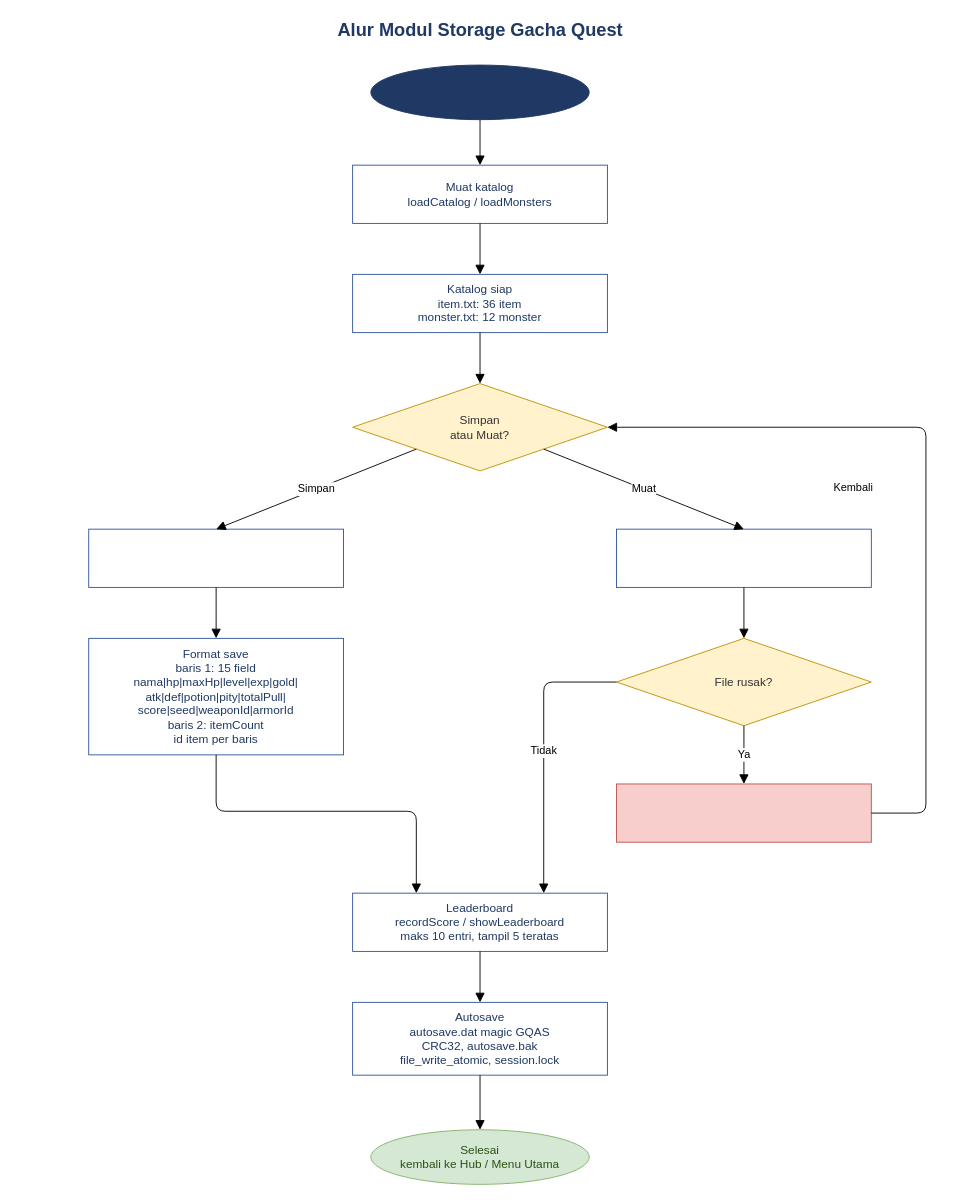
This 959x1200 diagram has some shape labels left out. The shapes that lost their labels are listed below. From the top down, each one's box as (x1, y1, x2, y2) in pixels, then its label:
(370, 64, 589, 120): Mulai
(88, 528, 344, 587): Simpan ke slot 1-5 saveGameSlot
(616, 528, 871, 587): Muat save loadGameSlot slot 1 fallback save.txt
(616, 783, 871, 842): Gagal memuat tolak, bukan crash kembali
